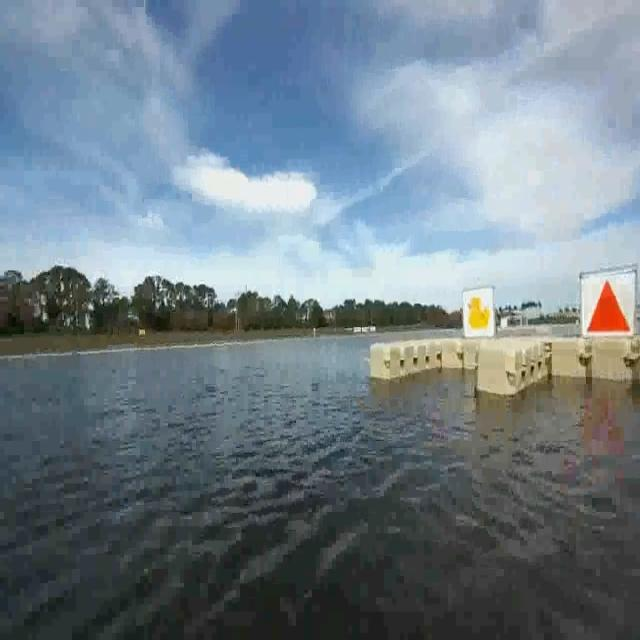red-dot: (578, 266, 636, 340)
yellow-duck: (459, 286, 493, 336)
